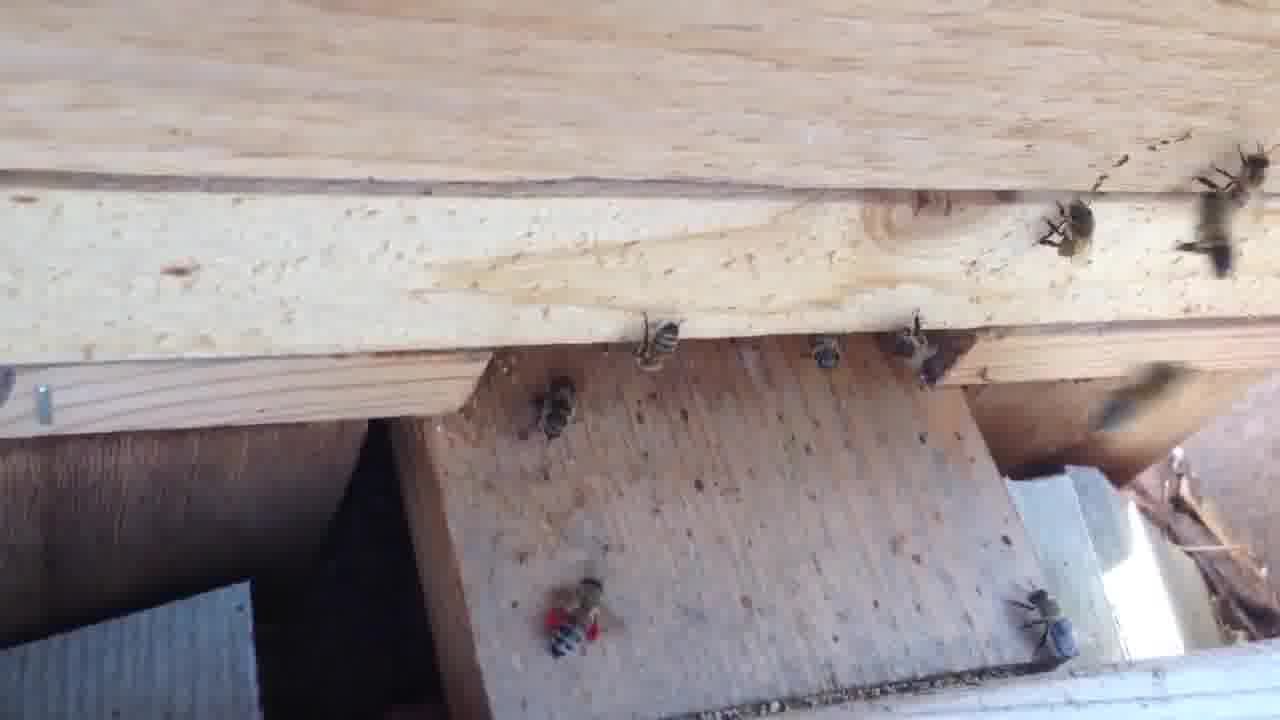pollen: (537, 576, 625, 661)
